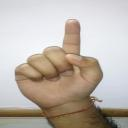hand: (14, 17, 117, 127)
